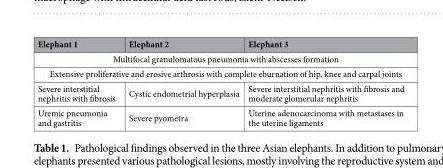table: (36, 37, 403, 128)
table column: (243, 37, 403, 128), (121, 37, 243, 128), (36, 37, 121, 128)
table column header: (36, 37, 403, 50)
table projected row header: (36, 50, 403, 65), (36, 65, 403, 80)
table row: (36, 80, 403, 105), (36, 105, 403, 128), (36, 50, 403, 65), (36, 65, 403, 80), (36, 37, 403, 50)
